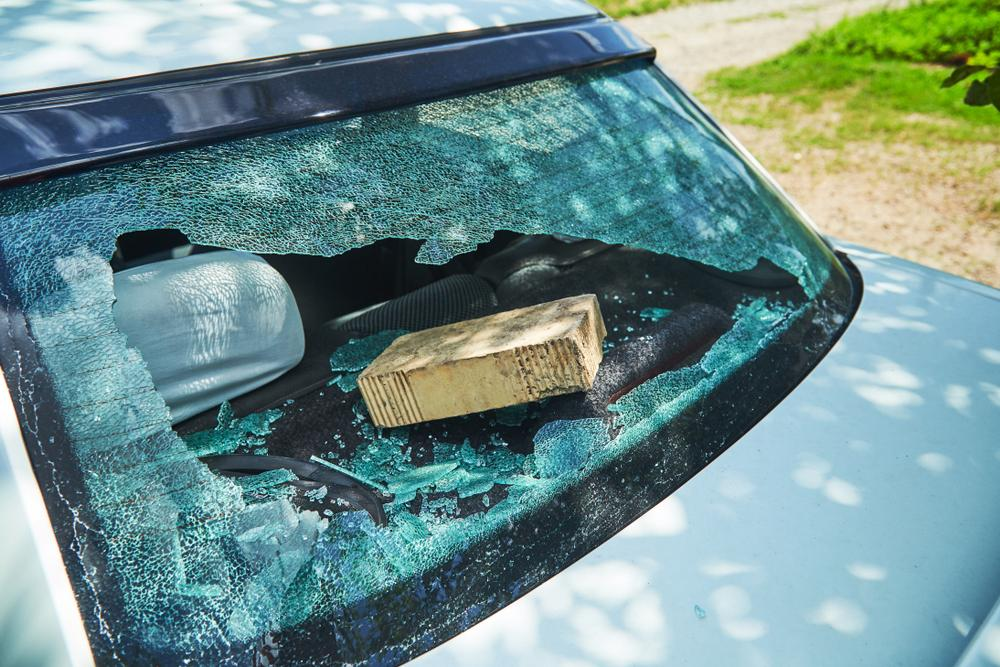glass shatter: (0, 57, 854, 667)
